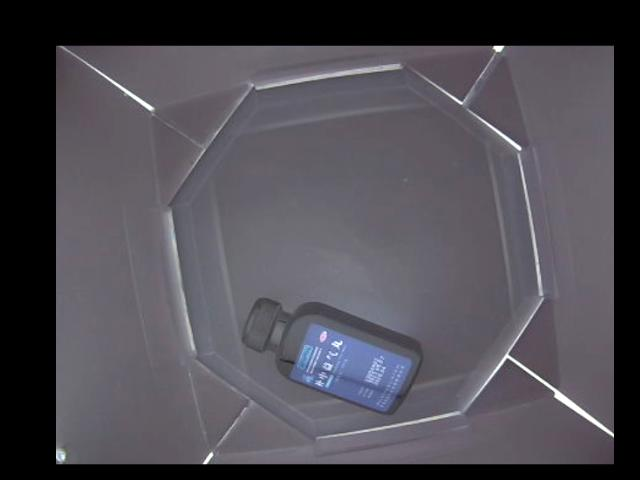Bottle: (240, 296, 425, 412)
